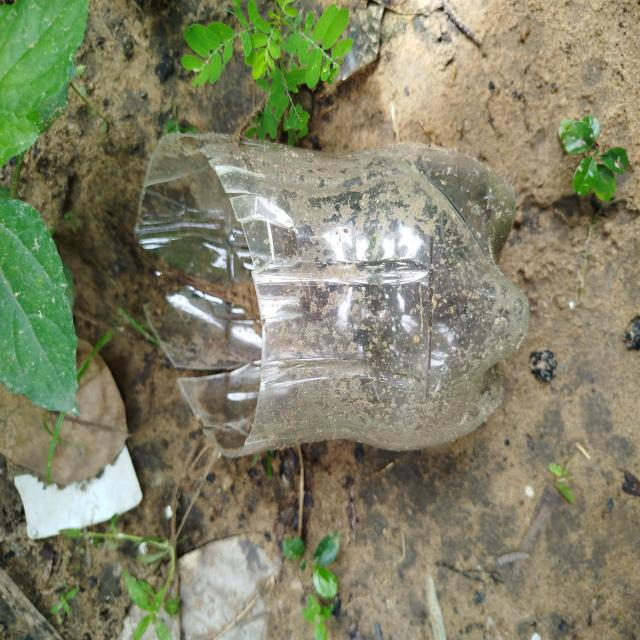plastic: (132, 113, 537, 477)
